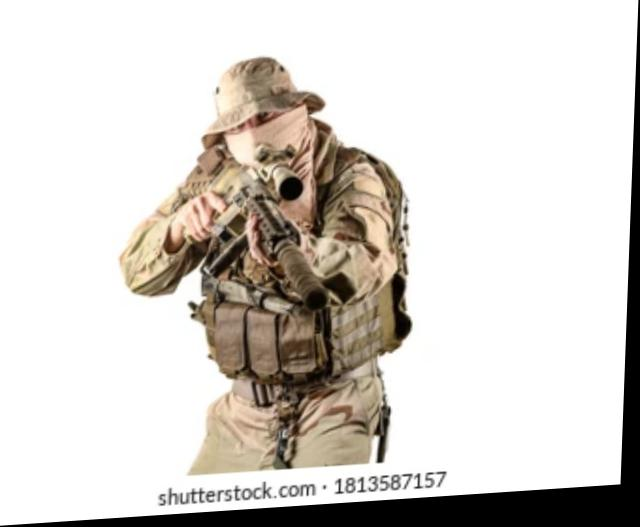other: (130, 65, 409, 483)
